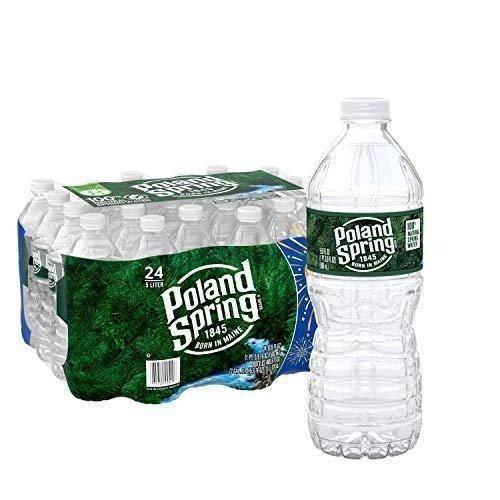bottle-plastic: (301, 90, 428, 460)
